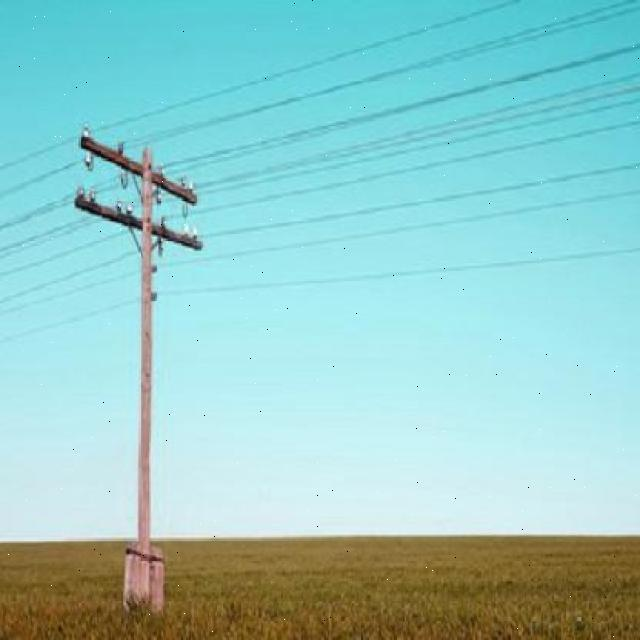light_pole: (66, 129, 208, 600)
